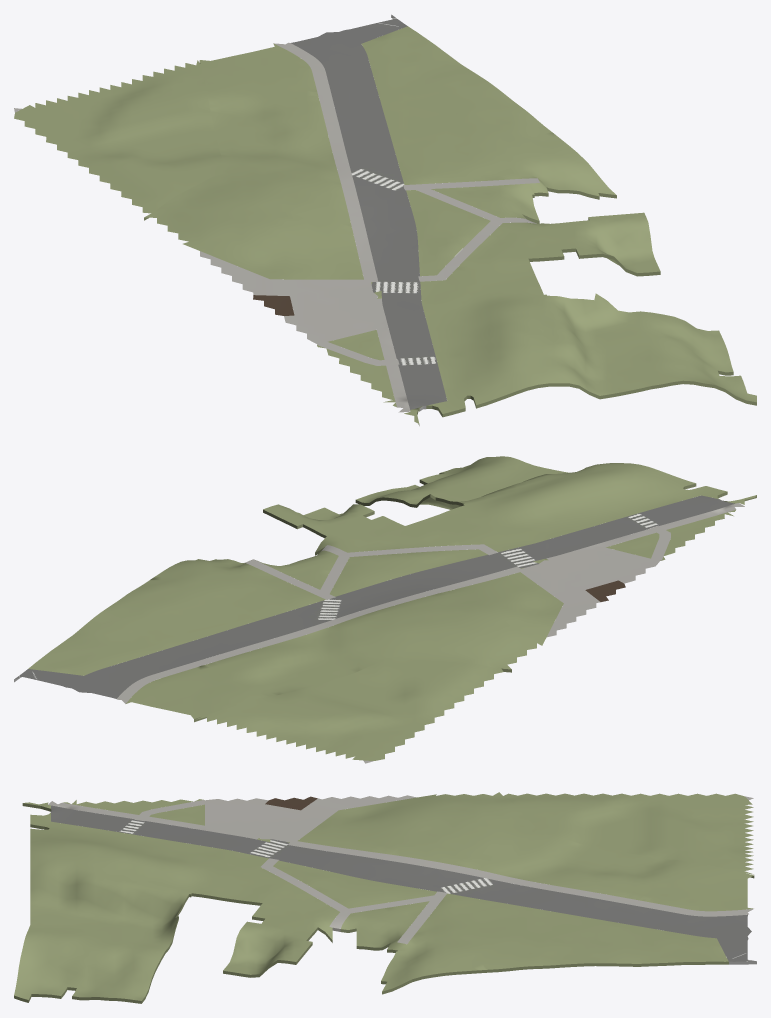
3 renders of one model, top to bottom at view 1: azimuth 30°, elevation 25°; view 2: azimuth 150°, elevation 25°; view 3: azimuth 270°, elevation 25°, orthographic. The views are drawn at different scales.
Visible parts, largest first — view 1: SW_ground_blanton_lawn_1_2, SW_ground_webster_asphalt_1_2_UNVERIFIED, SW_ground_blanton_concrete_1_2_UNVERIFIED; view 2: SW_ground_blanton_lawn_1_2, SW_ground_webster_asphalt_1_2_UNVERIFIED, SW_ground_blanton_concrete_1_2_UNVERIFIED; view 3: SW_ground_blanton_lawn_1_2, SW_ground_webster_asphalt_1_2_UNVERIFIED, SW_ground_blanton_concrete_1_2_UNVERIFIED, SW_ground_webster_mulch_1_2_UNVERIFIED.
Part boxes in pixels (bbox=[...]): SW_ground_blanton_lawn_1_2: bbox=[14, 26, 756, 425]; SW_ground_webster_asphalt_1_2_UNVERIFIED: bbox=[291, 14, 446, 410]; SW_ground_blanton_concrete_1_2_UNVERIFIED: bbox=[14, 42, 539, 412]; SW_ground_blanton_lawn_1_2: bbox=[28, 456, 756, 760]; SW_ground_webster_asphalt_1_2_UNVERIFIED: bbox=[14, 495, 734, 698]; SW_ground_blanton_concrete_1_2_UNVERIFIED: bbox=[116, 503, 744, 763]; SW_ground_blanton_lawn_1_2: bbox=[14, 792, 754, 1003]; SW_ground_webster_asphalt_1_2_UNVERIFIED: bbox=[51, 805, 756, 964]; SW_ground_blanton_concrete_1_2_UNVERIFIED: bbox=[48, 795, 753, 943]; SW_ground_webster_mulch_1_2_UNVERIFIED: bbox=[265, 796, 317, 810].
Bounding box in the file's own units: 76.13 × 14.09 × 136.
Materials: 8 (4 with a texture image).
